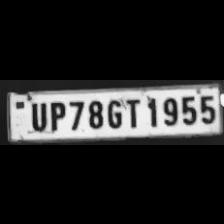1: (143, 94, 159, 128)
5: (178, 92, 198, 125), (198, 92, 218, 125)
7: (65, 96, 84, 130)
8: (85, 96, 105, 128)
9: (158, 93, 180, 125)
G: (104, 94, 124, 128)
P: (46, 97, 66, 130)
T: (124, 94, 144, 128)
U: (26, 99, 48, 131)
